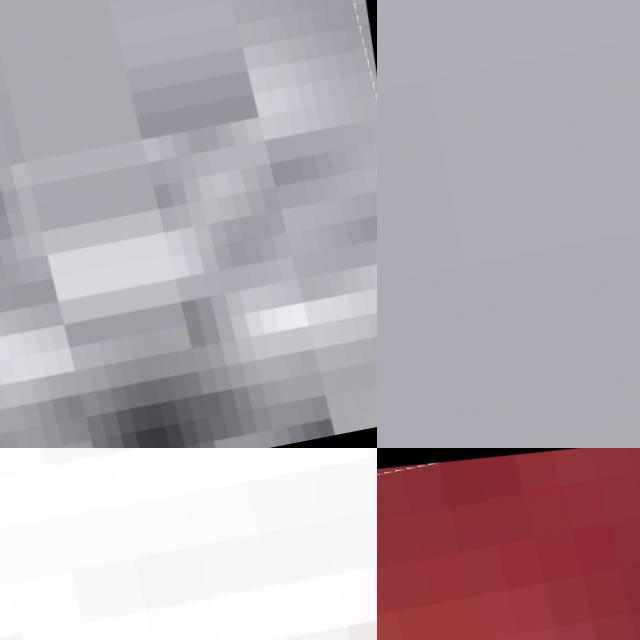0: (0, 0, 377, 448)
drone: (0, 448, 377, 640), (377, 448, 640, 640)
